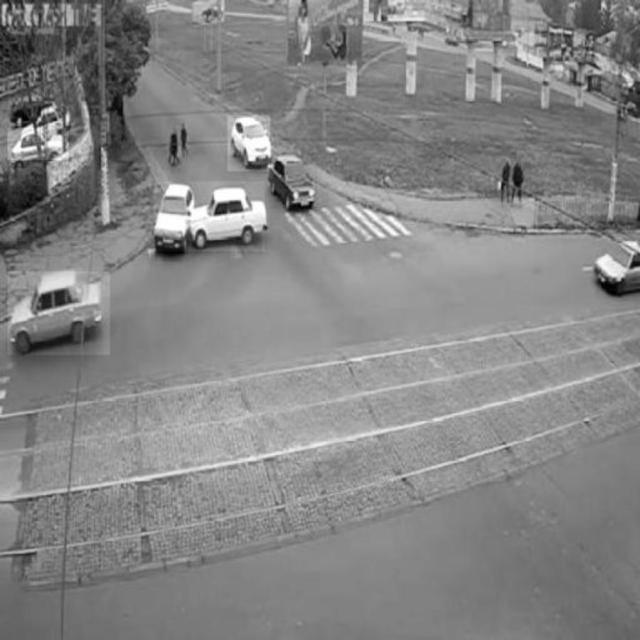accident: (154, 182, 265, 252)
vehicle: (8, 272, 110, 355), (269, 153, 317, 209), (228, 115, 270, 171), (8, 128, 69, 160)
